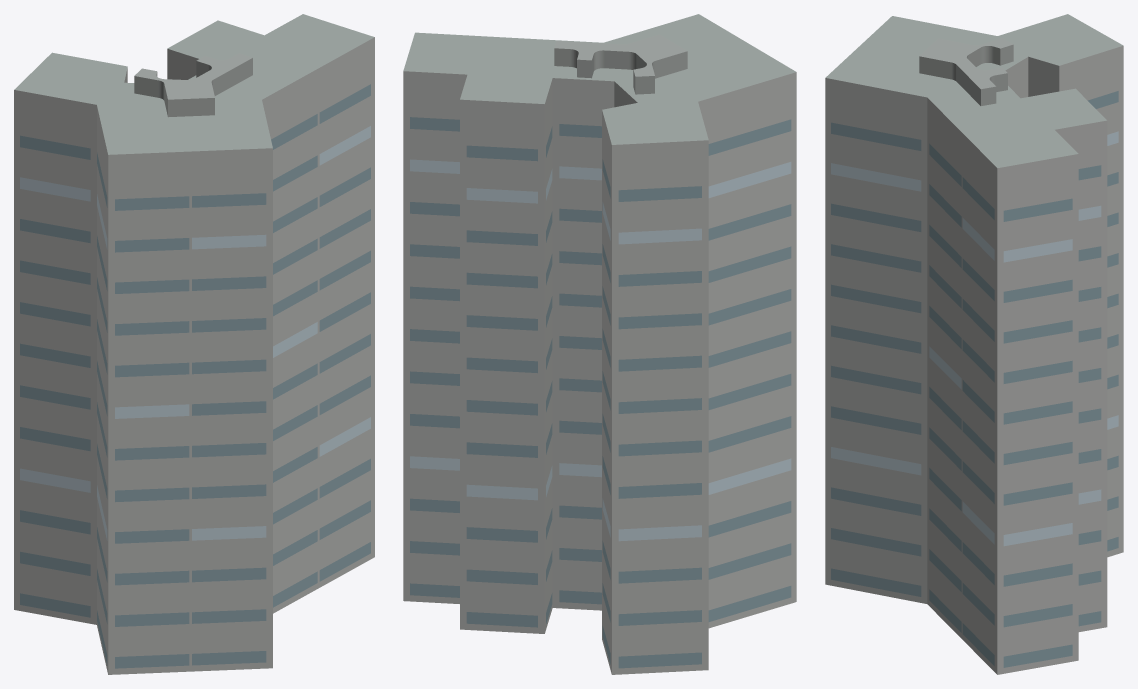
Rendered from fallback-shinbanpo-xi-107.glb.
3 views of the same model, side by side, from view 1: azimuth 30°, elevation 25°; view 2: azimuth 150°, elevation 25°; view 3: azimuth 270°, elevation 25° (orthographic). The views are drawn at different scales.
Parts seen in each view (by area): view 1: fallback-shinbanpo-xi-107; view 2: fallback-shinbanpo-xi-107; view 3: fallback-shinbanpo-xi-107.
Part boxes in pixels (x1,y1,x2,y2): fallback-shinbanpo-xi-107: (14,14,374,674); fallback-shinbanpo-xi-107: (403,14,796,674); fallback-shinbanpo-xi-107: (825,14,1123,674).
Bounding box in the file's own units: 46.75 × 74 × 38.2.
